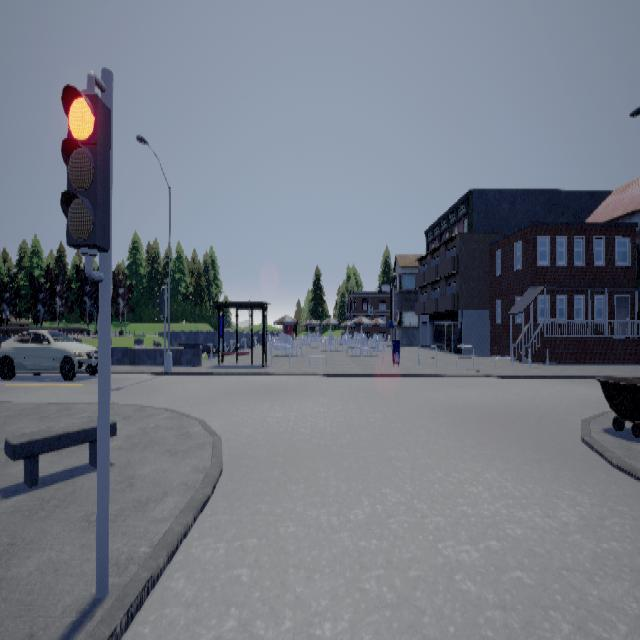red_light: (61, 69, 112, 281)
vehicle: (1, 328, 99, 379)
